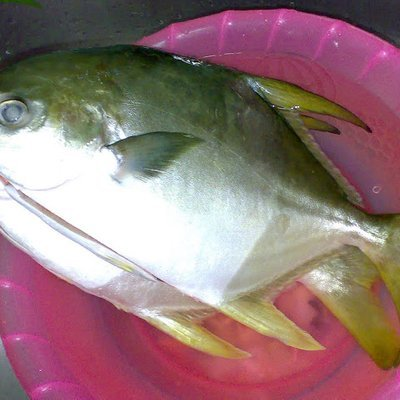Ikan Bawal: (3, 37, 400, 319)
